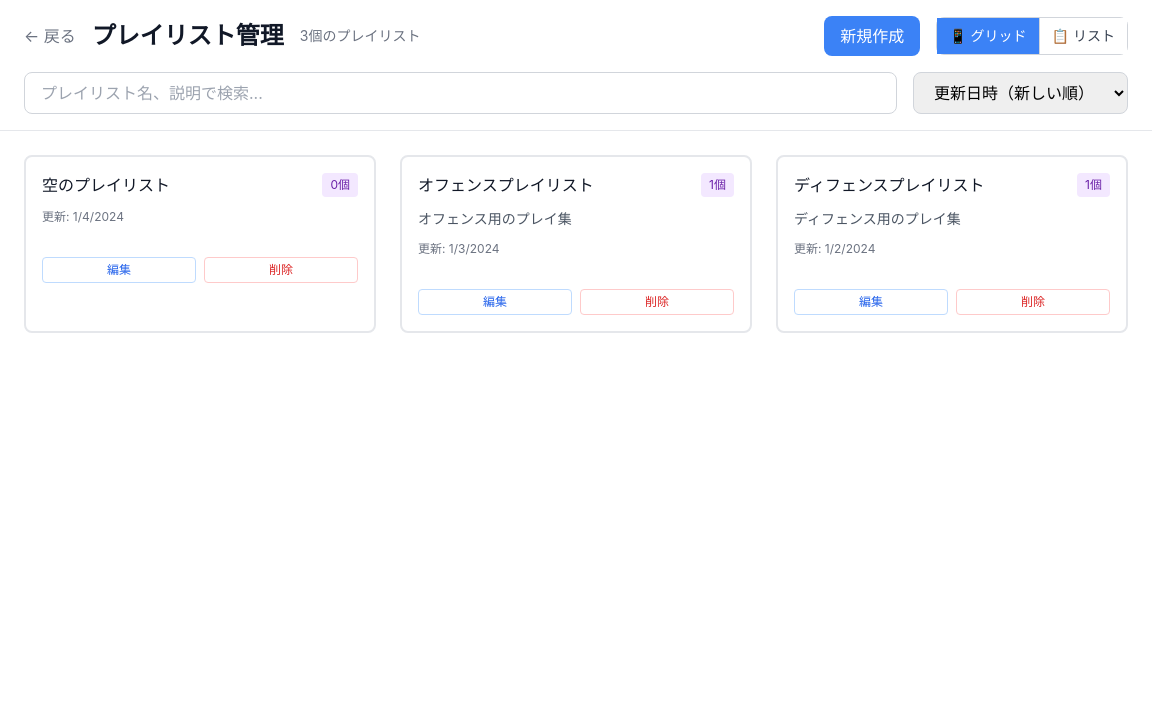
Test: PlaylistWorkspace › ブラウズモード（初期表示） › 新規作成ボタンが機能すること
Click the button "新規作成".
click(872, 36)  # box [824,16,920,56]
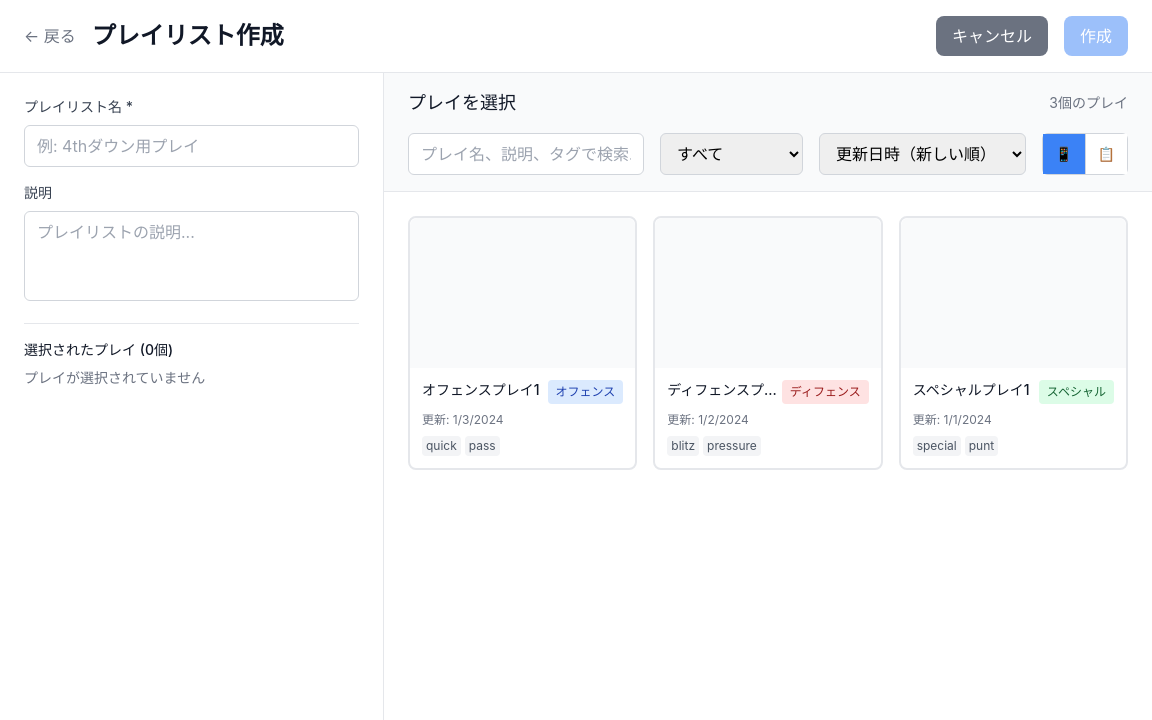
Expected: the heading "プレイリスト作成" is shown, [92,20,284,52]
Expected: the text "プレイリスト名 *" is shown, [24,98,133,115]
